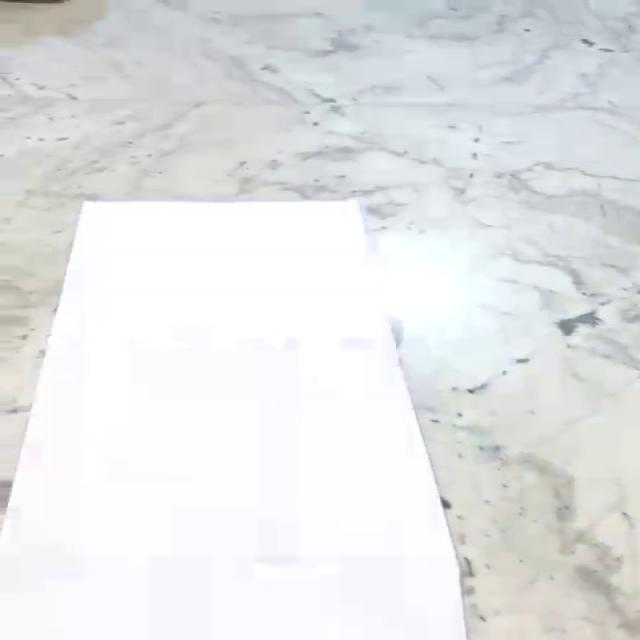road: (0, 200, 469, 640)
